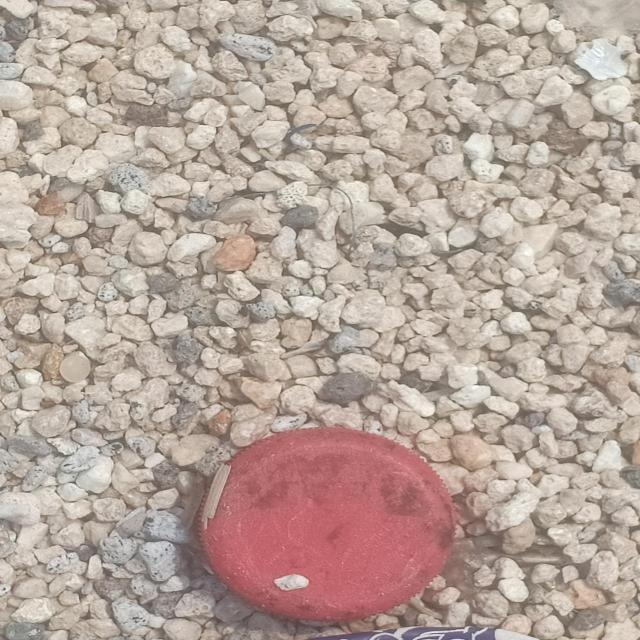plastic_waste: (193, 423, 455, 622)
